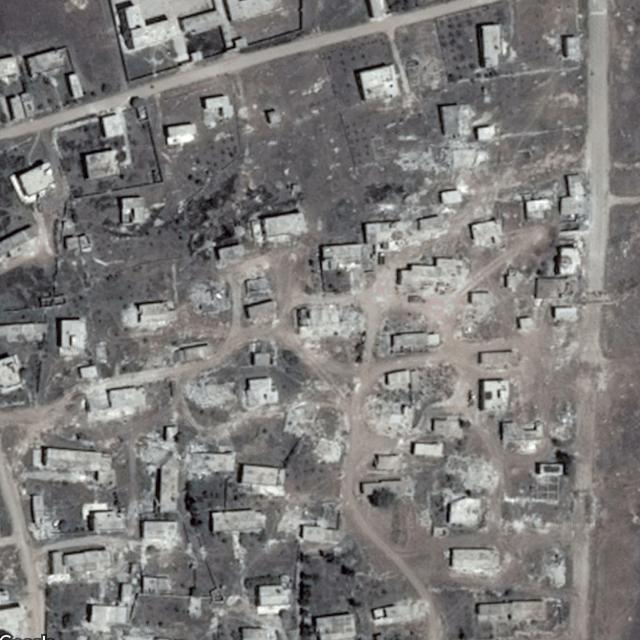damaged_building: (361, 366, 455, 440), (282, 400, 341, 462), (134, 440, 236, 474), (290, 303, 366, 341), (444, 452, 499, 496), (181, 370, 238, 407), (184, 277, 232, 314), (368, 600, 430, 623), (532, 550, 566, 587), (439, 102, 473, 136), (450, 141, 490, 167)
